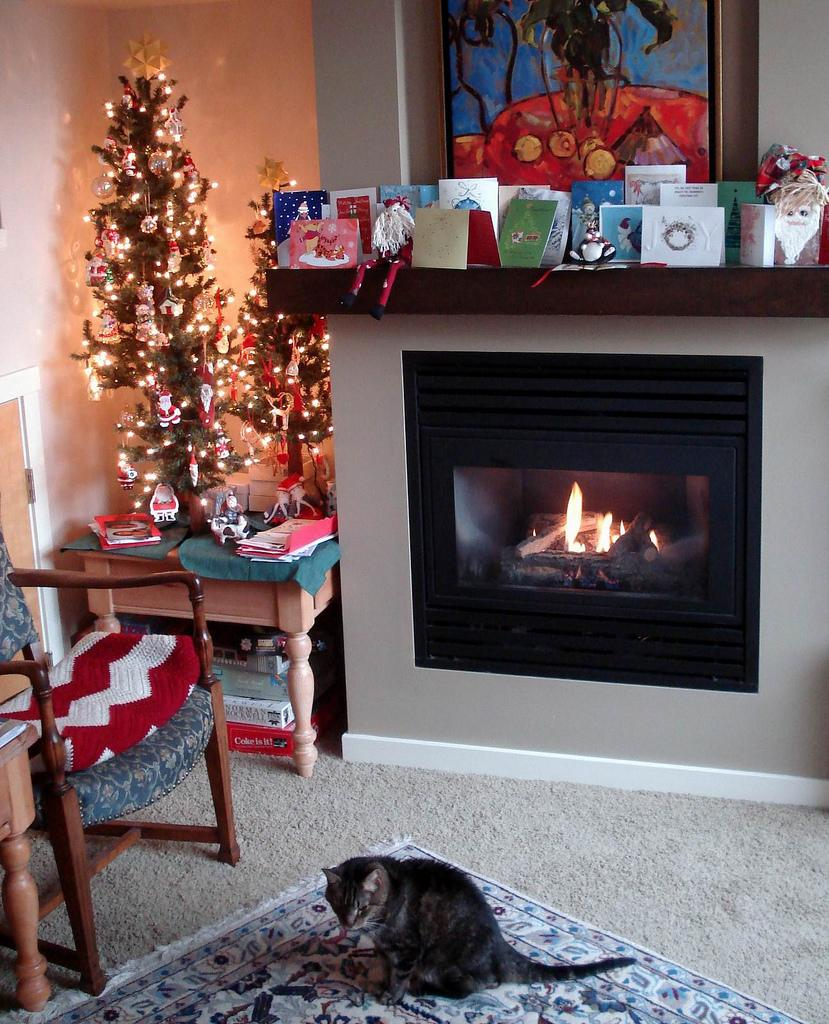fire: (562, 485, 588, 550), (595, 508, 625, 560)
